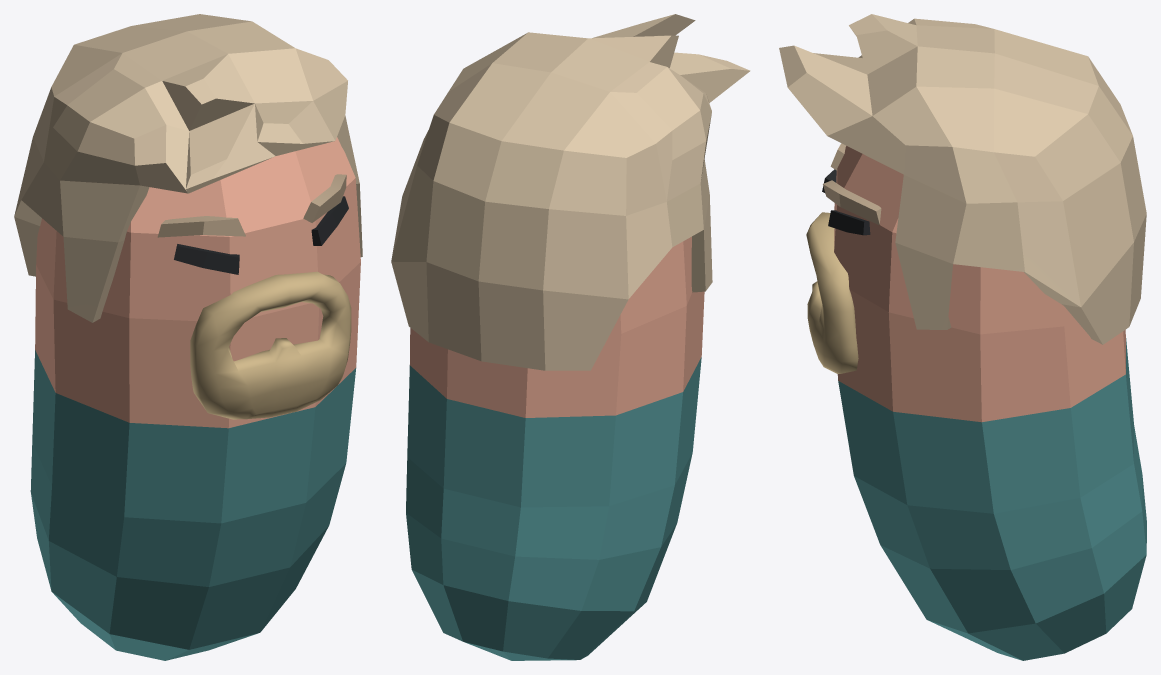
The model's file is raymanBean.fbx.
3 views of the same model, side by side, from view 1: azimuth 30°, elevation 25°; view 2: azimuth 150°, elevation 25°; view 3: azimuth 270°, elevation 25° (orthographic). The views are drawn at different scales.
Visible parts, largest first — view 1: body_mesh, hair_mesh, bead_mesh, eyebrowR_mesh, eyeR_mesh, eyebrowL_mesh, eyeL_mesh; view 2: hair_mesh, body_mesh; view 3: body_mesh, hair_mesh, bead_mesh, eyebrowL_mesh, eyeL_mesh.
Boxes of the visible parts, x1=… form: body_mesh: x1=30, y1=137, x2=360, y2=660; hair_mesh: x1=14, y1=14, x2=362, y2=322; bead_mesh: x1=190, y1=271, x2=351, y2=419; eyebrowR_mesh: x1=157, y1=216, x2=245, y2=237; eyeR_mesh: x1=174, y1=244, x2=239, y2=274; eyebrowL_mesh: x1=303, y1=174, x2=346, y2=222; eyeL_mesh: x1=311, y1=196, x2=348, y2=245; hair_mesh: x1=391, y1=14, x2=750, y2=370; body_mesh: x1=406, y1=236, x2=704, y2=660; body_mesh: x1=834, y1=146, x2=1146, y2=660; hair_mesh: x1=779, y1=14, x2=1146, y2=344; bead_mesh: x1=806, y1=212, x2=858, y2=373; eyebrowL_mesh: x1=823, y1=180, x2=881, y2=224; eyeL_mesh: x1=828, y1=210, x2=870, y2=235.
Bounding box in the file's own units: 2.13 × 4.35 × 2.43.
